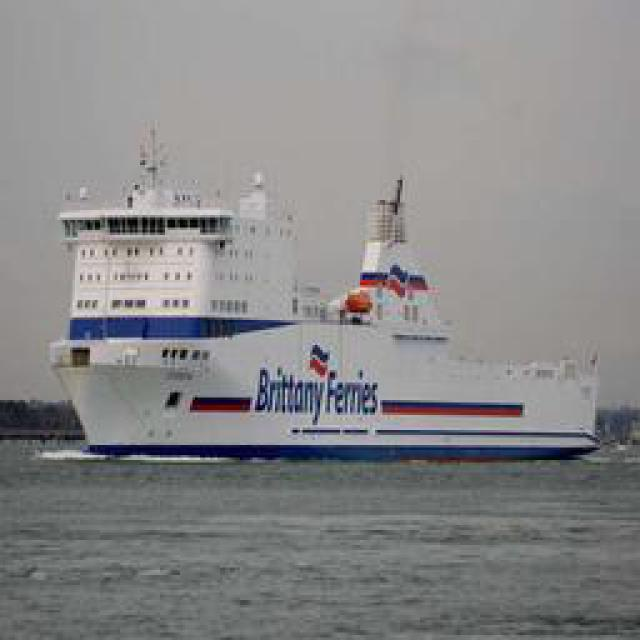Ship: (46, 142, 601, 465)
